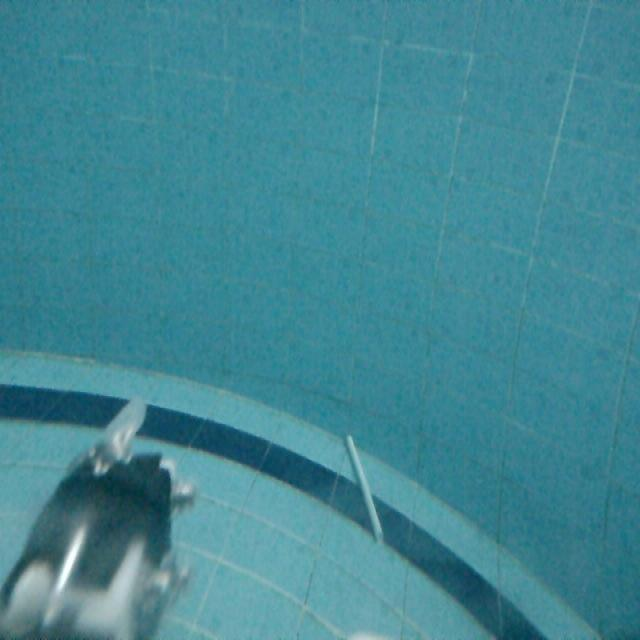Cube: (336, 428, 391, 554)
